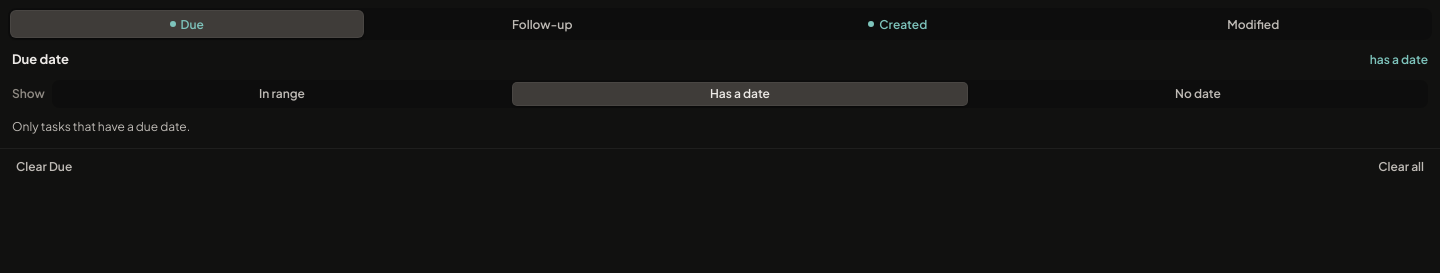
DateFilterPanel › Clear <Type> resets only the selected type; Clear all resets every type; neither closes
The image size is (1440, 273).
Click the button "Clear Due": (44, 166) [8,154,80,178]
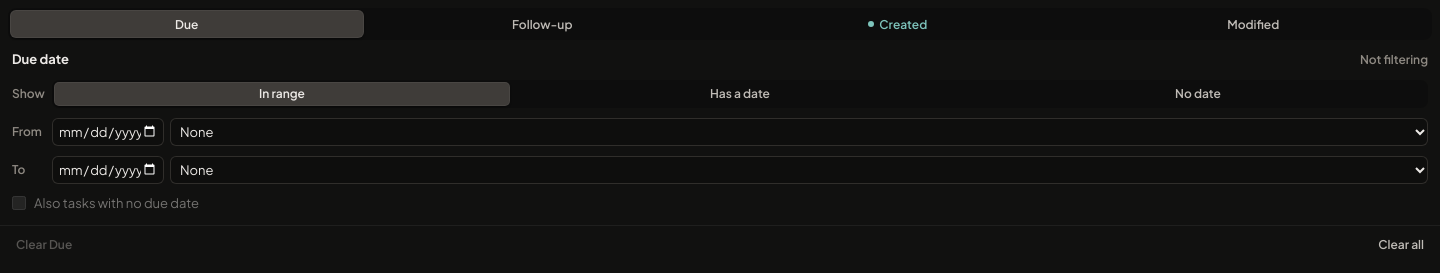
Expected: the element showing "Due Follow-up Created Modified" is shown, [8,8,1432,40]
Expected: the button "Clear Due" is disabled, [8,232,80,256]
Click the tab "Created": (898, 24) [721,10,1074,38]
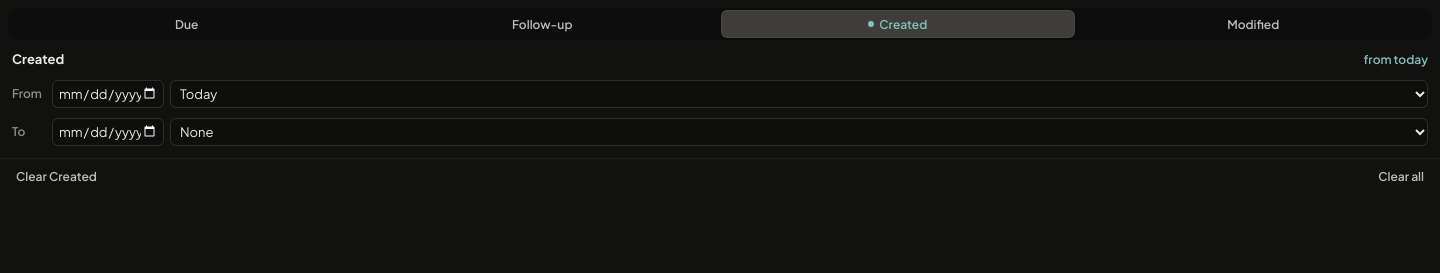
Expected: the button "Clear Created" is enabled, [8,164,105,188]
Click the button "Clear all": (1401, 176) [1370,164,1432,188]
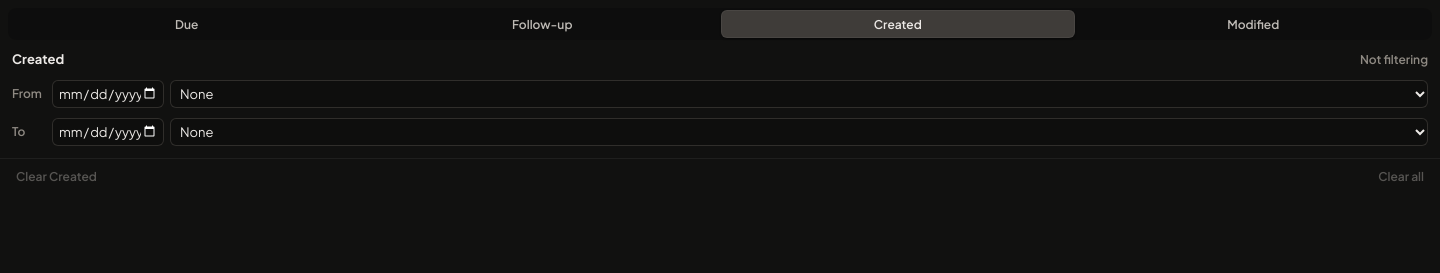
Expected: the button "Clear all" is disabled, [1370,164,1432,188]
